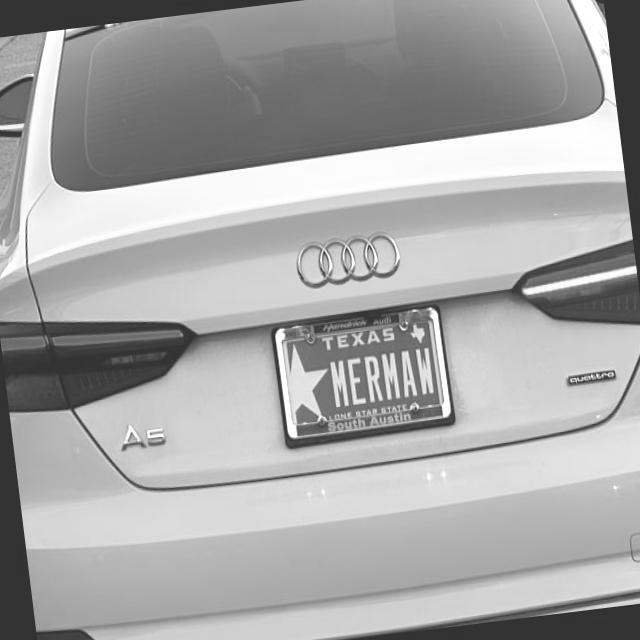LicensePlate: (269, 303, 456, 449)
